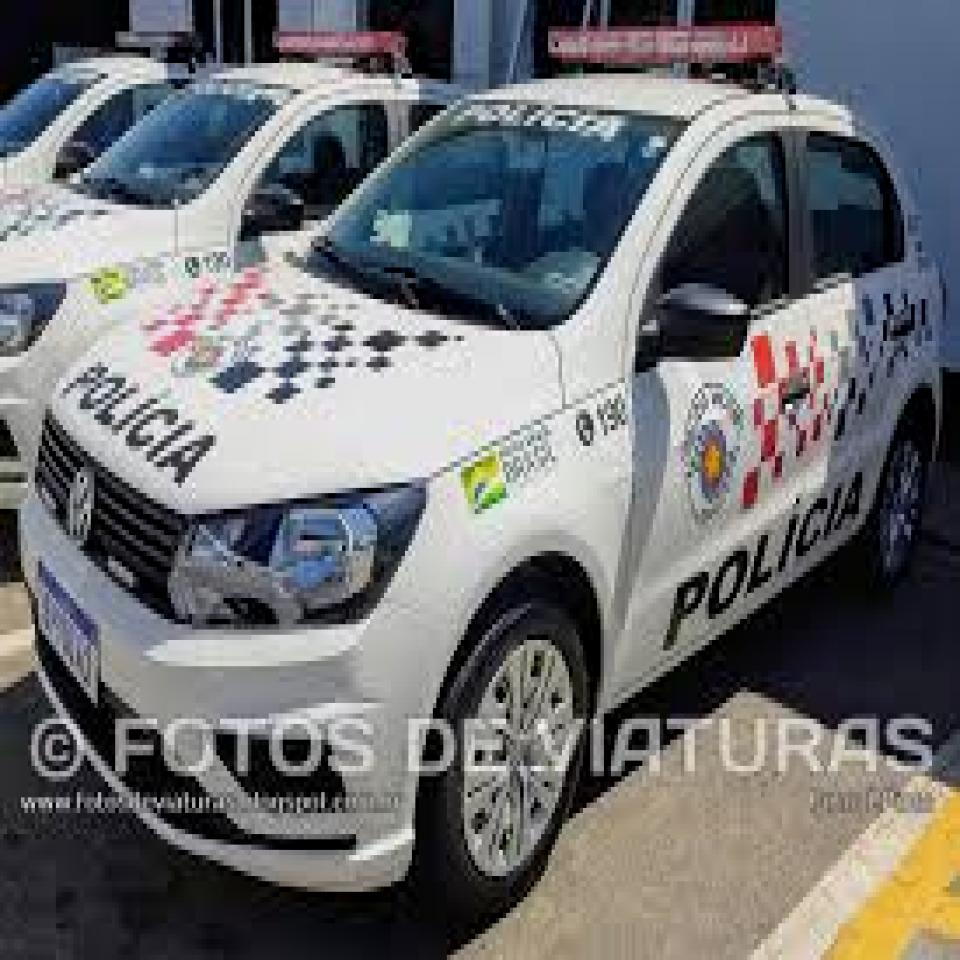viatura: (18, 25, 948, 897), (0, 30, 579, 506)
